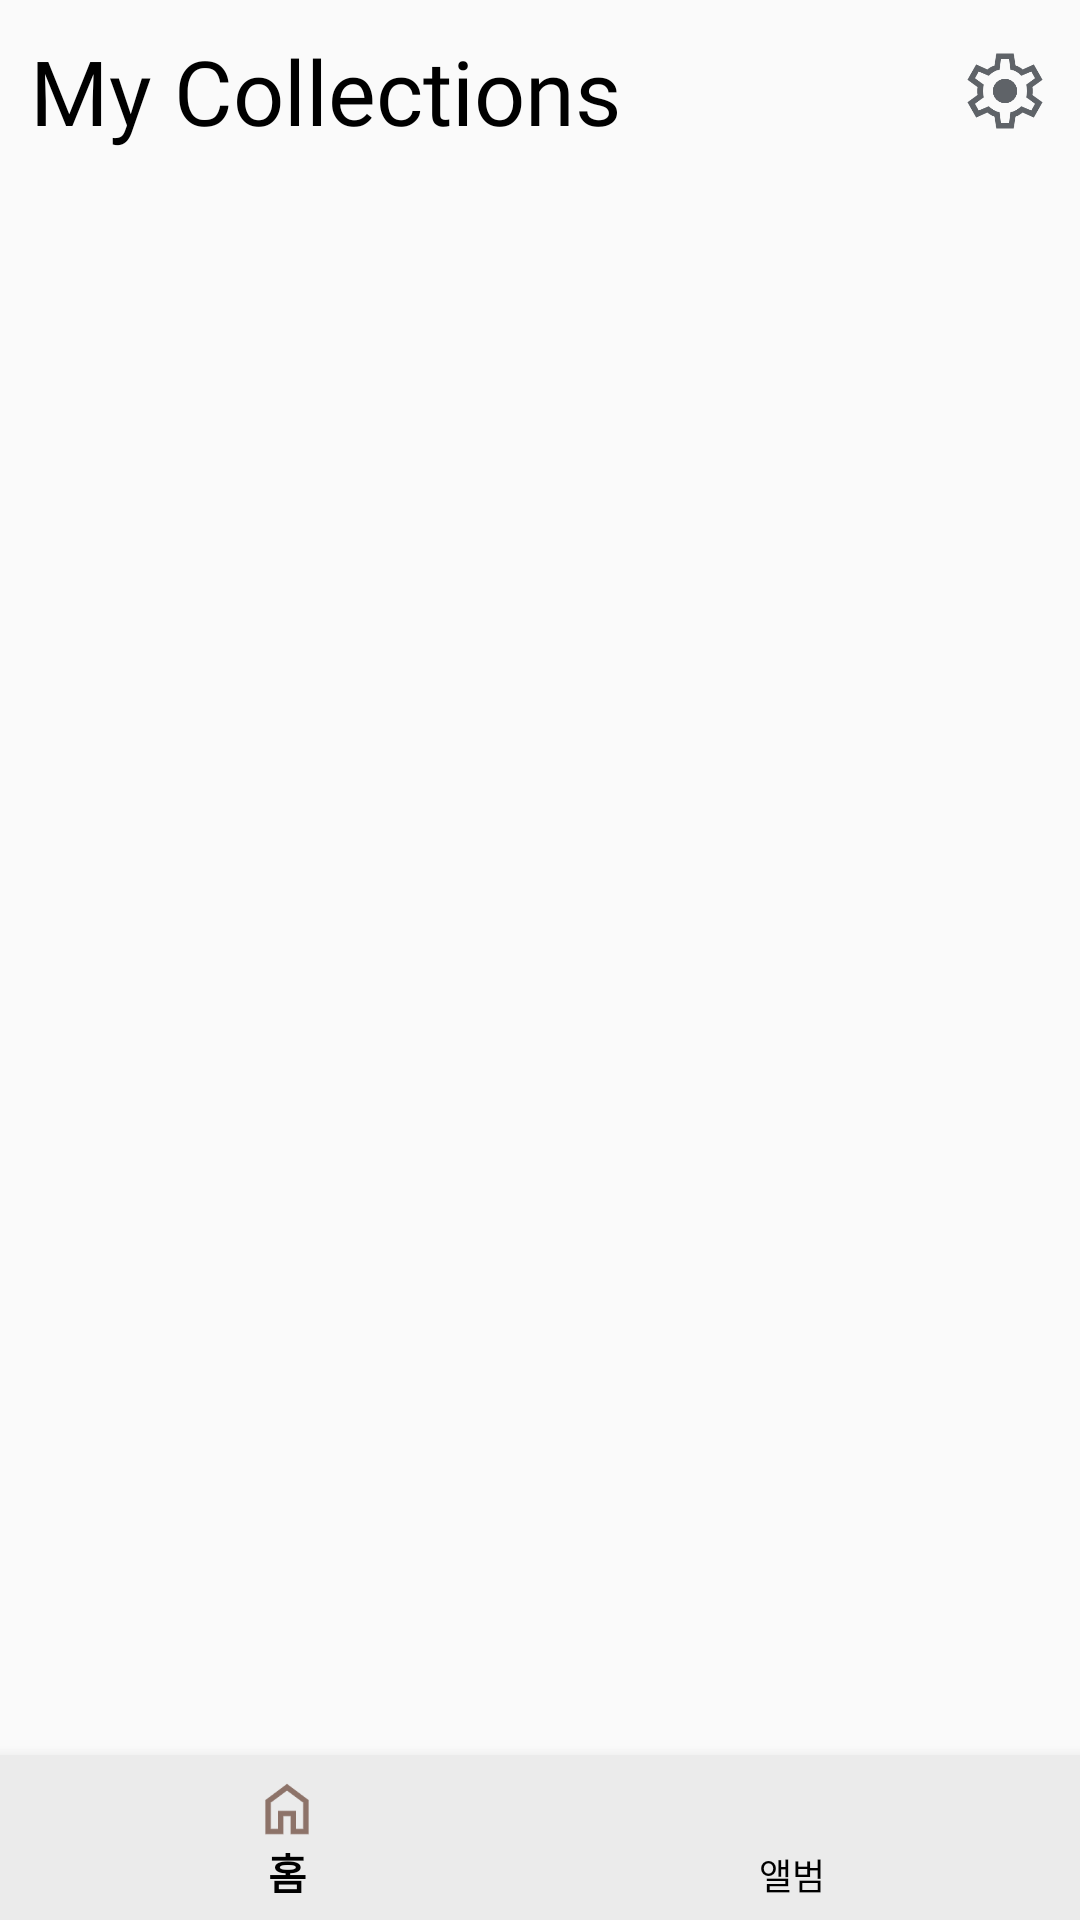

Screen size 1080 x 1920. Icon name, then its box in pixels as (x1, y1, x2, y2):
setting: (967, 53, 1043, 129)
